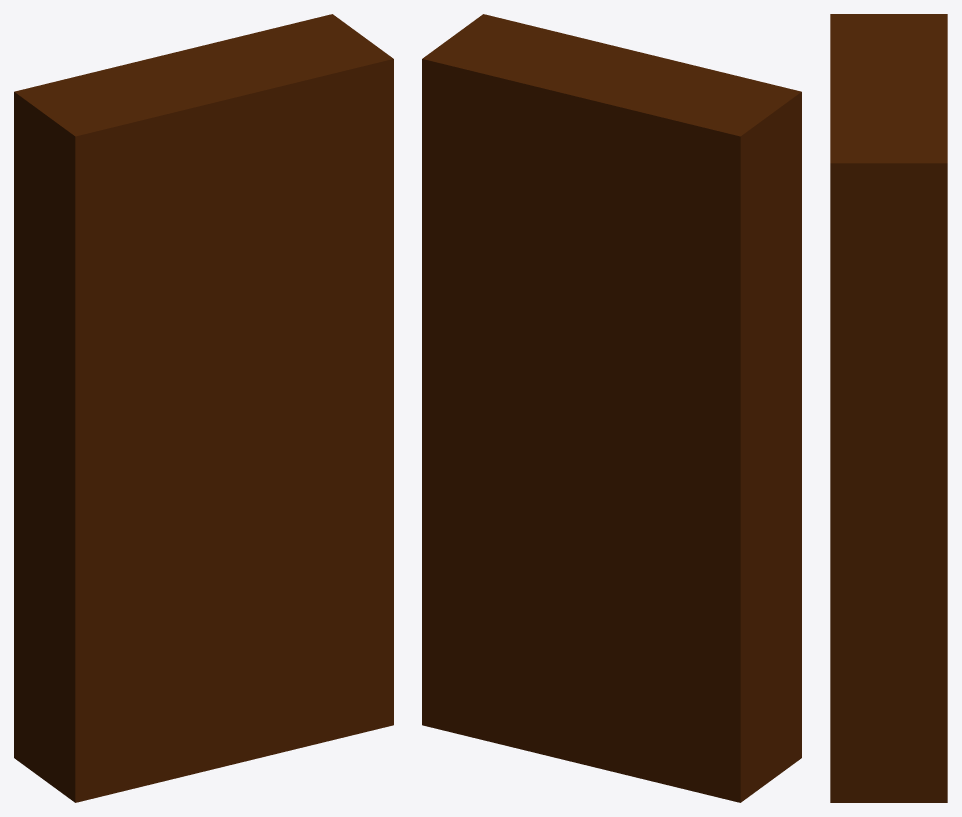
File: bookshelf.glb
3 renders of one model, left to right at view 1: azimuth 30°, elevation 25°; view 2: azimuth 150°, elevation 25°; view 3: azimuth 270°, elevation 25°, orthographic. The views are drawn at different scales.
Visible parts, largest first — view 1: bookshelf_frame; view 2: bookshelf_frame; view 3: bookshelf_frame.
Part boxes in pixels (x1,y1,x2,y2): bookshelf_frame: (14,14,393,802); bookshelf_frame: (422,14,801,802); bookshelf_frame: (830,14,947,802).
Size of the model in its own units: 0.9 by 1.8 by 0.3.
